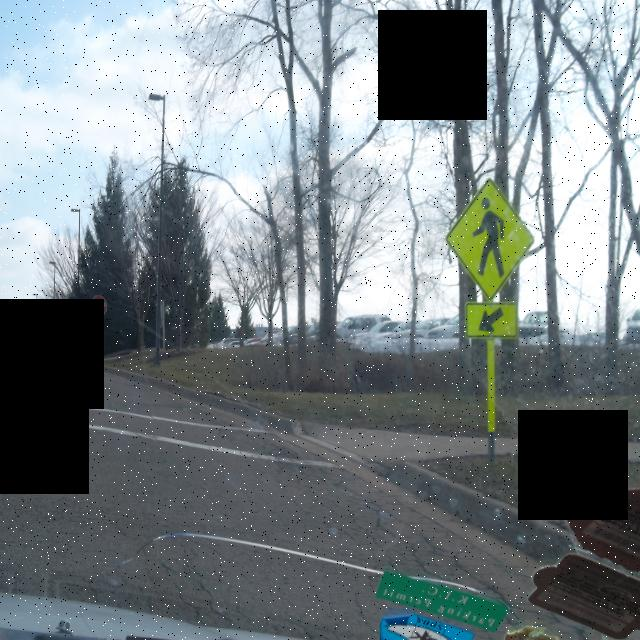warning: (444, 177, 534, 301), (465, 304, 518, 338)
